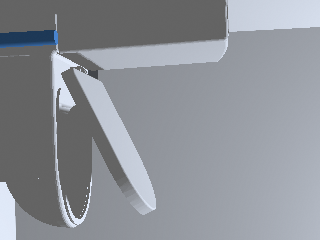lid_1: (63, 68, 155, 214)
